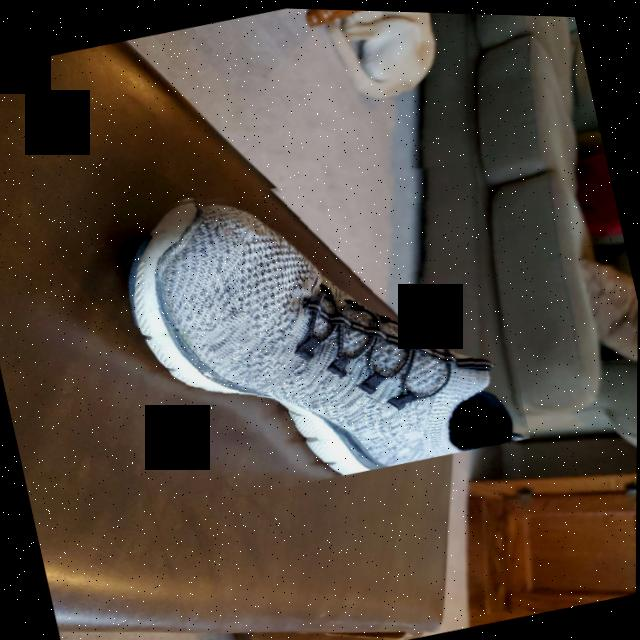shoe: (106, 127, 537, 517)
